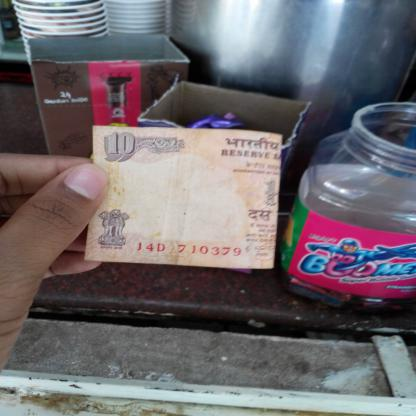Old10Front: (82, 124, 284, 271)
